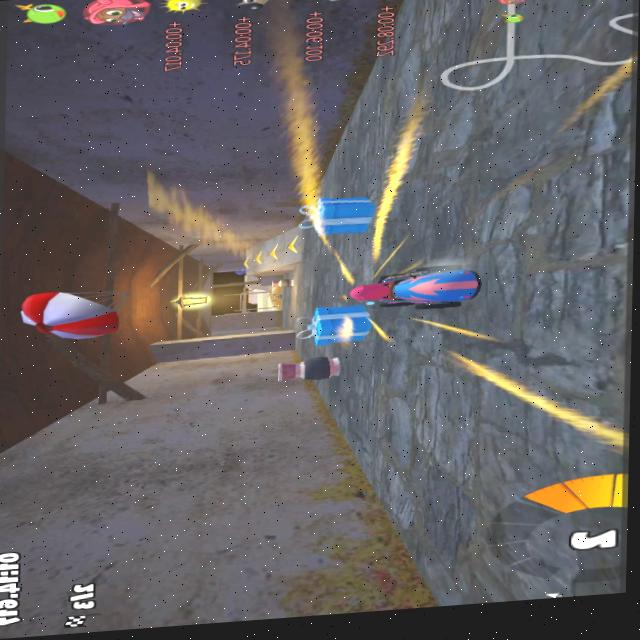bonus: (297, 191, 392, 242), (308, 297, 369, 350)
player_kart: (354, 245, 492, 313)
power_up: (290, 228, 302, 253), (269, 241, 282, 264), (252, 248, 267, 267), (243, 253, 251, 270)
